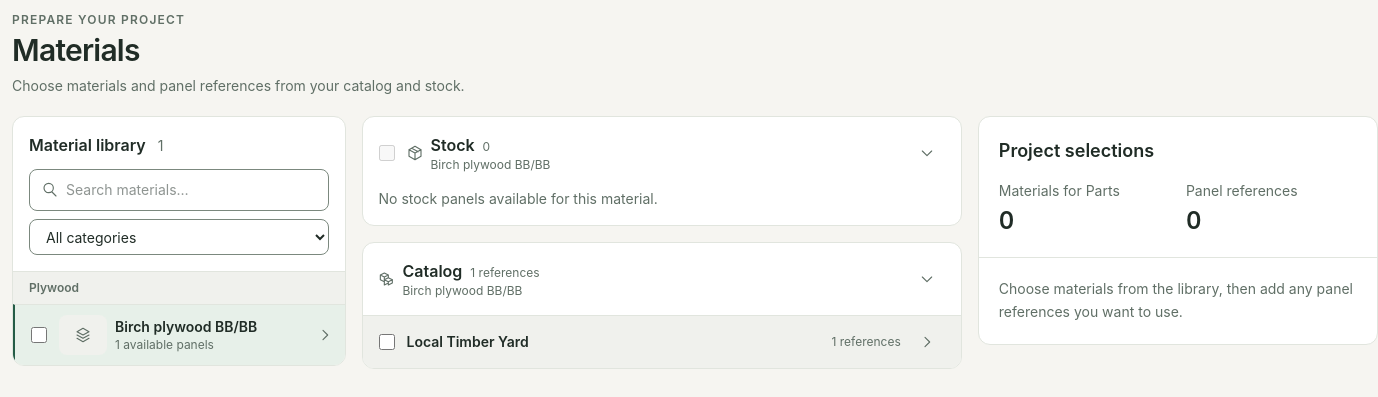
Test case: MaterialsView › selects existing materials without changing catalog records
Expected: the element that starts with "Material library" shows "Plywood", [29,280,79,295]
Click the checkbox named "Use Birch plywood BB/BB" at (39, 335), box [31,327,47,343]
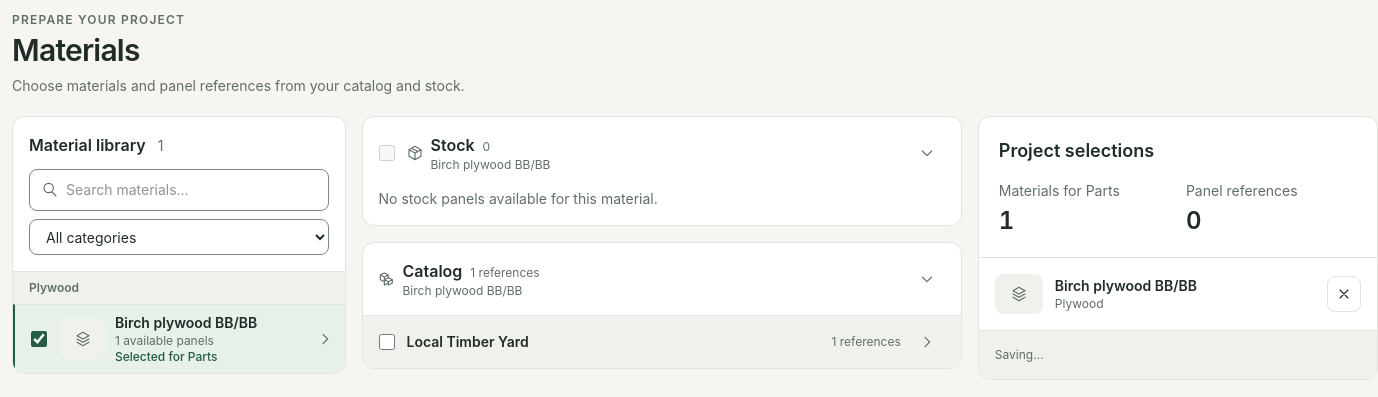
Expected: the element that starts with "Project selections" shows "Birch plywood BB/BB", [1055,277,1197,294]
Click the checkbox named "Use Birch plywood BB/BB" at (39, 339), box [31,331,47,347]
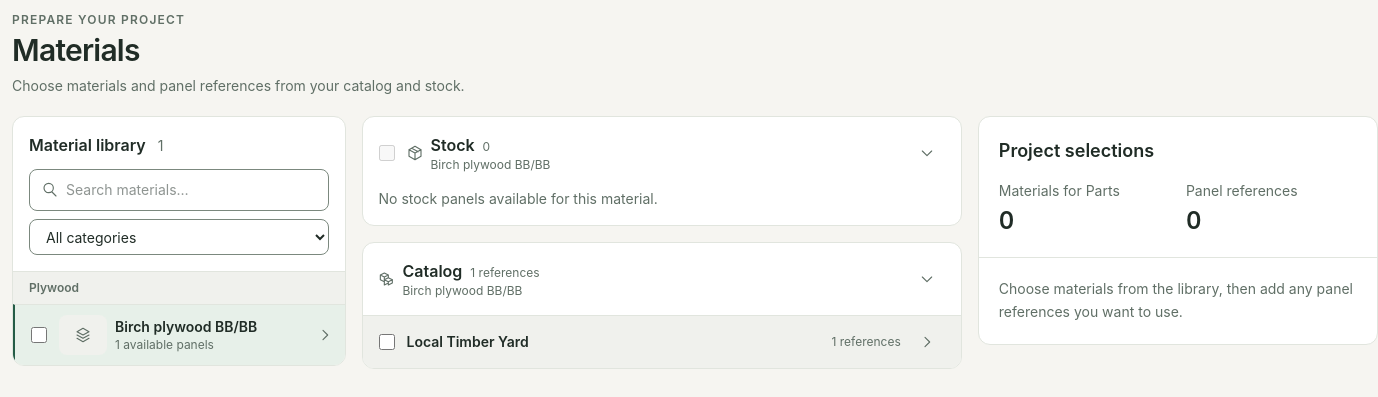
Expected: the element that starts with "Project selections" shows "Choose materials", [999,280,1353,320]
